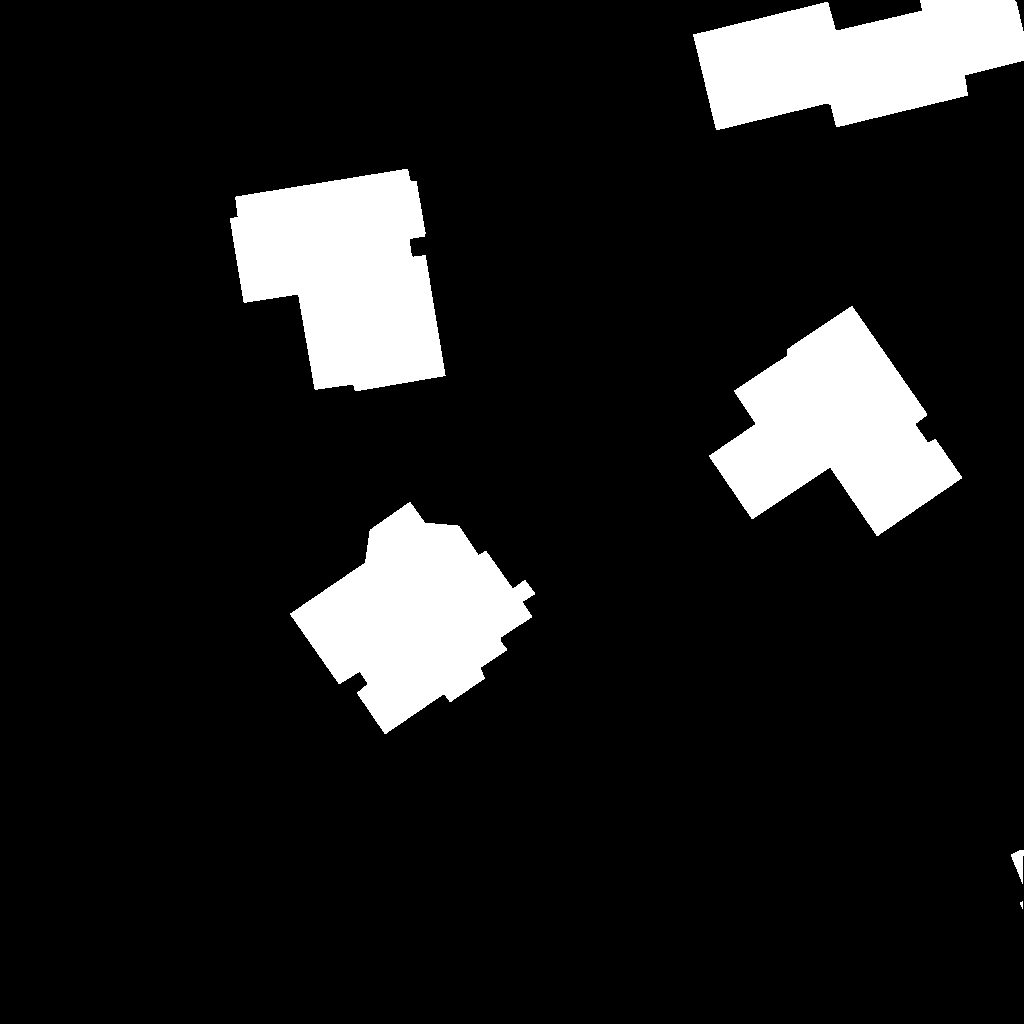building: (709, 306, 963, 537), (290, 502, 536, 735), (230, 169, 446, 392), (693, 0, 1024, 131), (1011, 850, 1024, 911)
